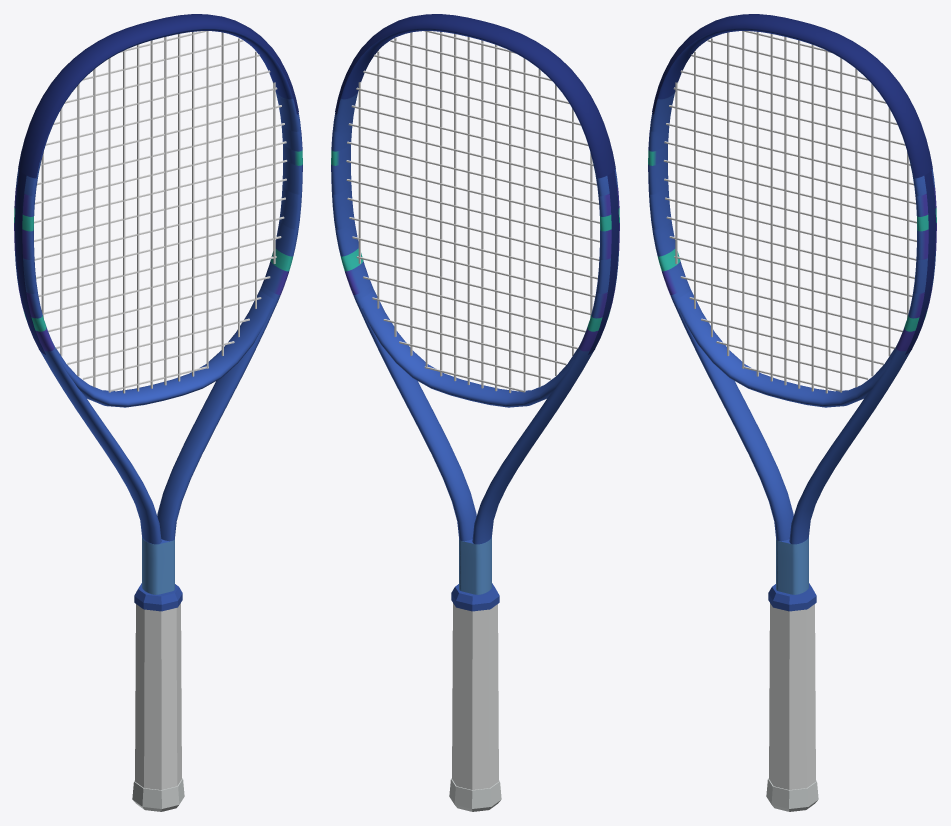
The model's file is yonex-ezone-100-plus-2025.glb.
3 views of the same model, side by side, from view 1: azimuth 30°, elevation 25°; view 2: azimuth 150°, elevation 25°; view 3: azimuth 330°, elevation 25° (orthographic).
Parts seen in each view (by area): view 1: frame, strings_mains, strings_crosses, grip, bumper, grommets, butt_cap, collar; view 2: frame, strings_mains, strings_crosses, grip, bumper, grommets, butt_cap, collar; view 3: frame, strings_mains, strings_crosses, grip, bumper, grommets, butt_cap, collar.
Part boxes in pixels (left/top/right/bottom): frame: left=14, top=28, right=302, bottom=594; strings_mains: left=41, top=31, right=275, bottom=393; strings_crosses: left=34, top=31, right=287, bottom=391; grip: left=135, top=603, right=181, bottom=789; bumper: left=18, top=14, right=298, bottom=178; grommets: left=15, top=170, right=45, bottom=354; butt_cap: left=132, top=778, right=184, bottom=811; collar: left=134, top=583, right=182, bottom=611; frame: left=331, top=28, right=619, bottom=594; strings_mains: left=358, top=32, right=592, bottom=393; strings_crosses: left=346, top=31, right=599, bottom=392; grip: left=452, top=603, right=498, bottom=789; bumper: left=335, top=14, right=615, bottom=178; grommets: left=588, top=170, right=618, bottom=354; butt_cap: left=449, top=778, right=501, bottom=811; collar: left=451, top=583, right=499, bottom=611; frame: left=648, top=28, right=936, bottom=594; strings_mains: left=675, top=31, right=909, bottom=393; strings_crosses: left=663, top=31, right=916, bottom=391; grip: left=769, top=603, right=815, bottom=789; bumper: left=652, top=14, right=932, bottom=178; grommets: left=905, top=170, right=935, bottom=354; butt_cap: left=766, top=778, right=818, bottom=811; collar: left=768, top=583, right=816, bottom=611.
Bounding box in the file's own units: 0.2636 × 0.6988 × 0.0396.
